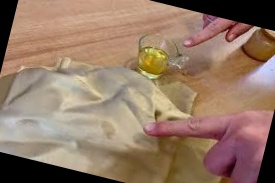oil: (89, 116, 123, 145)
